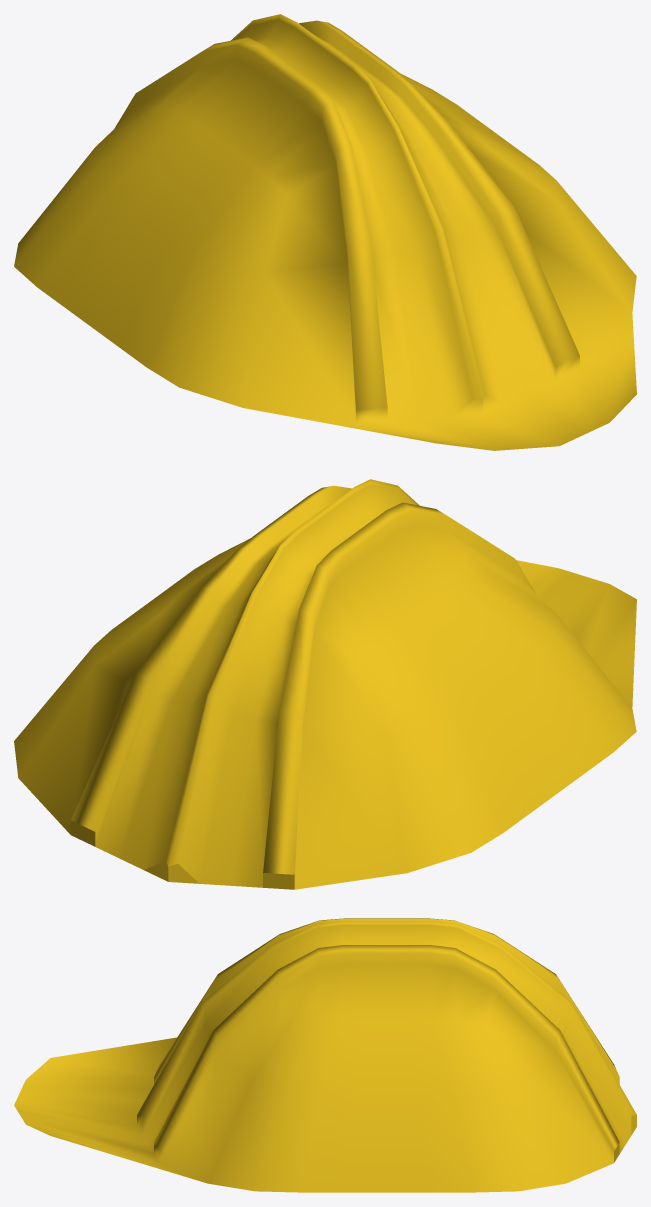
Rendered from baret.fbx.
The picture shows the model from 3 angles, top to bottom: view 1: azimuth 30°, elevation 25°; view 2: azimuth 150°, elevation 25°; view 3: azimuth 270°, elevation 25°; orthographic projection. The views are drawn at different scales.
Visible parts, largest first — view 1: Cube.001; view 2: Cube.001; view 3: Cube.001.
Boxes of the visible parts, x1,y1,x2,y2 form: Cube.001: (14, 14, 636, 450); Cube.001: (14, 479, 636, 889); Cube.001: (14, 918, 636, 1192).
Size of the model in its own units: 239 by 126 by 347.
